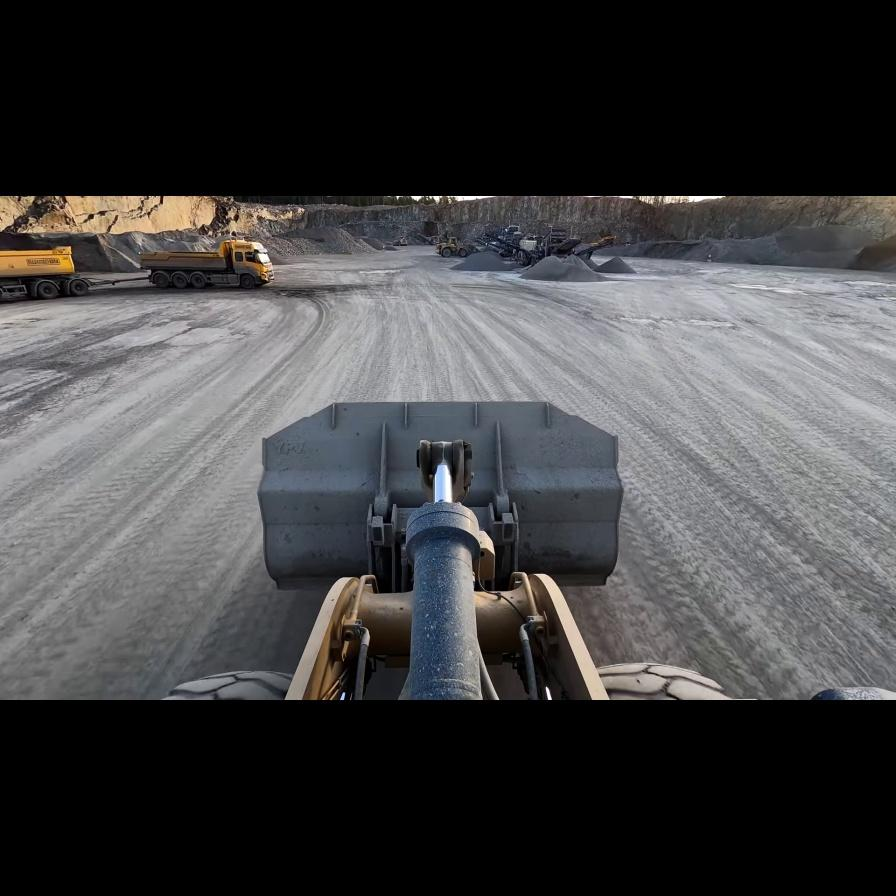anchor: (416, 440, 471, 504)
pile of gravel: (592, 224, 892, 269), (0, 230, 247, 274), (246, 224, 382, 255), (519, 253, 612, 283), (447, 249, 520, 272), (591, 251, 642, 280), (364, 237, 401, 253)
